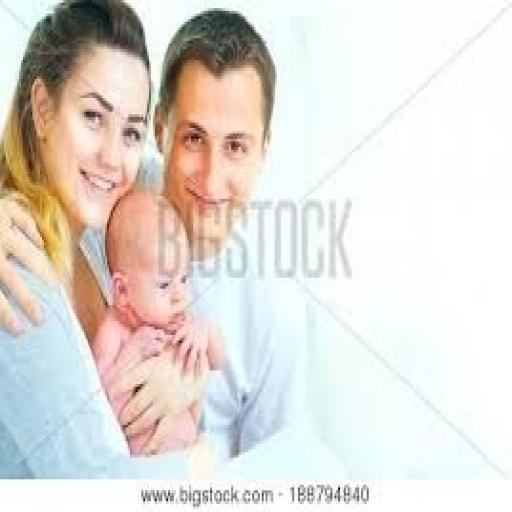hugging: (0, 0, 306, 474)
